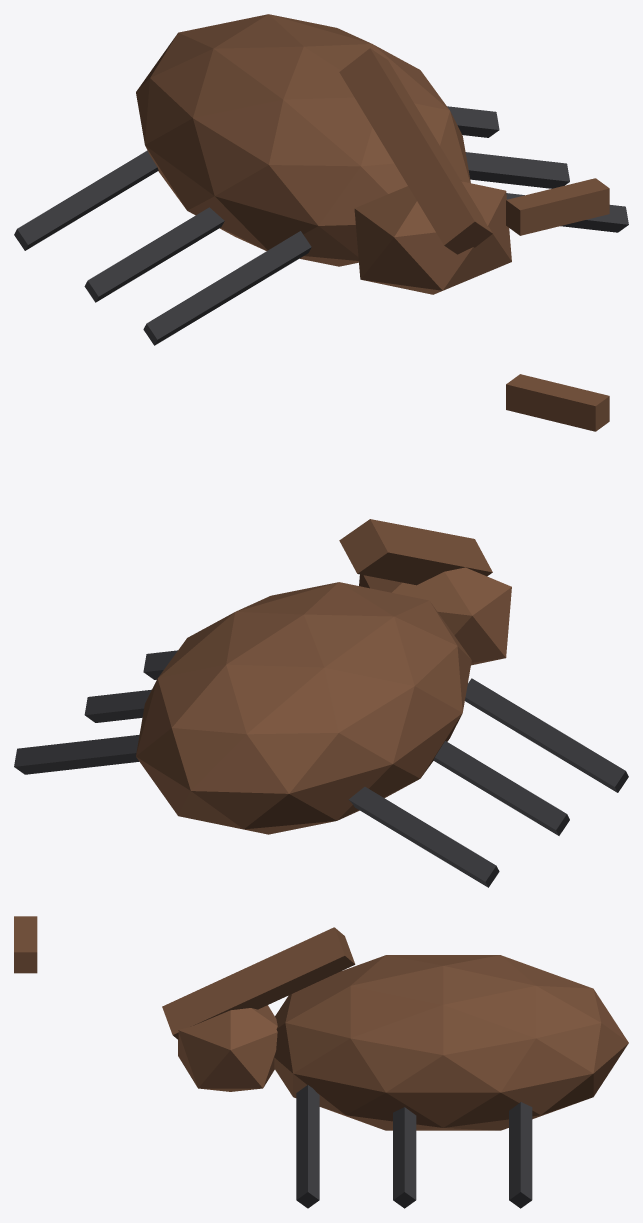
File: kabuto.glb
3 views of the same model, one above another, from view 1: azimuth 30°, elevation 25°; view 2: azimuth 150°, elevation 25°; view 3: azimuth 270°, elevation 25° (orthographic). The views are drawn at different scales.
Visible parts, largest first — view 1: kabuto; view 2: kabuto; view 3: kabuto.
Part boxes in pixels (x1=…): kabuto: x1=14, y1=14, x2=628, y2=345; kabuto: x1=14, y1=374, x2=628, y2=887; kabuto: x1=14, y1=916, x2=628, y2=1208.
Size of the model in its own units: 0.1176 by 0.055 by 0.159.
